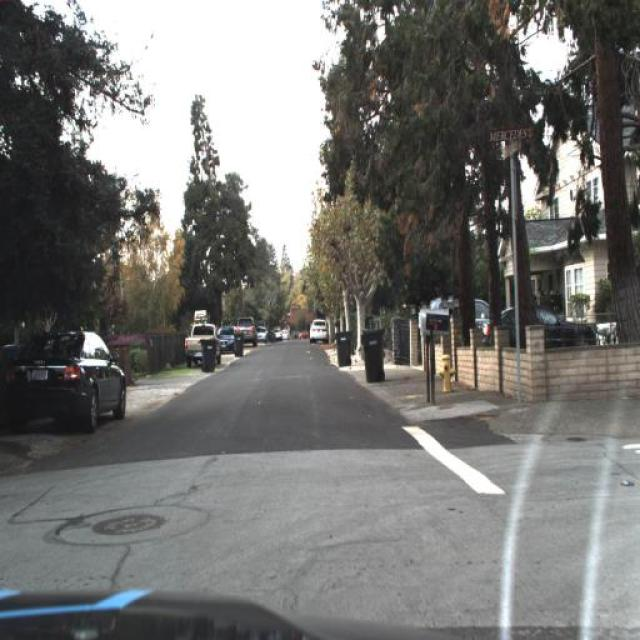car: (0, 319, 141, 432), (486, 304, 600, 346), (418, 293, 493, 337), (180, 320, 216, 368), (216, 320, 240, 356), (238, 314, 256, 350), (309, 315, 330, 341)
